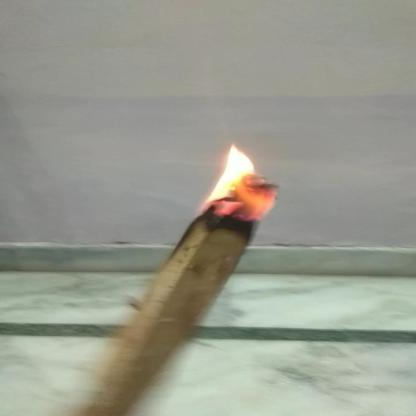fire: (199, 143, 278, 218)
